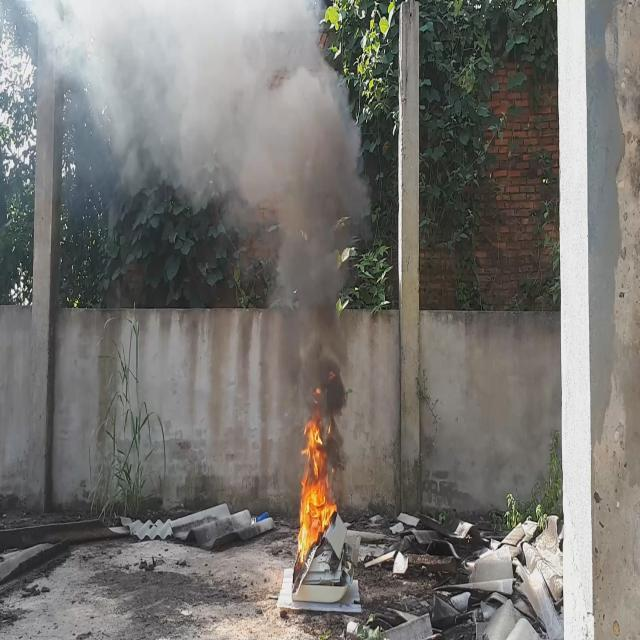Fire: (298, 382, 336, 570)
Smoke: (27, 0, 374, 482)
